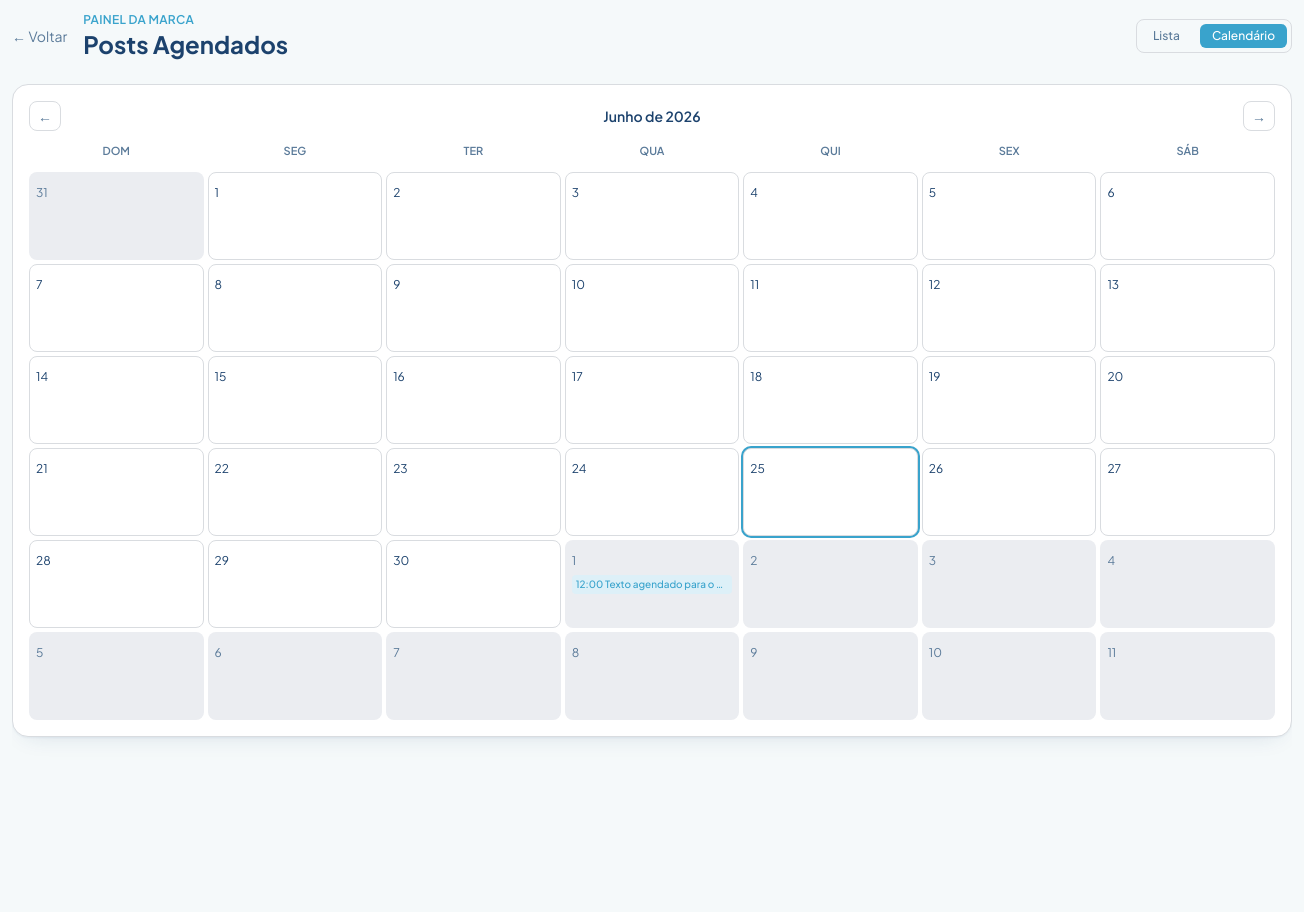
ScheduledPostsPage › mostra os posts agendados com data, plataforma e prévia do texto
The image size is (1304, 912).
Click the button "Lista": click(1166, 36) [1141, 24, 1192, 48]
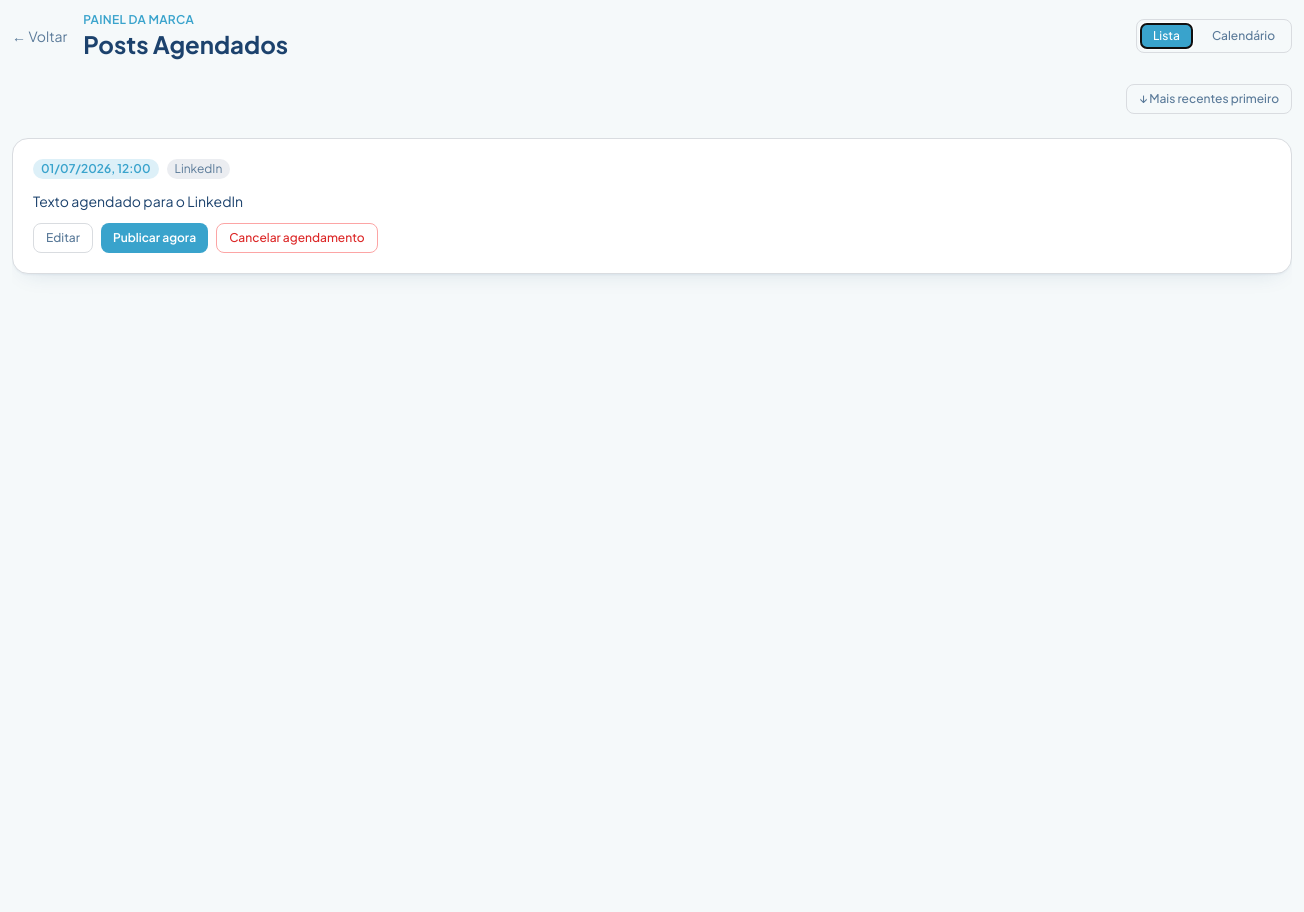
Expected: the text "Texto agendado para o LinkedIn" is shown, [33, 192, 243, 210]
Expected: the text "LinkedIn" is shown, [166, 159, 230, 179]
